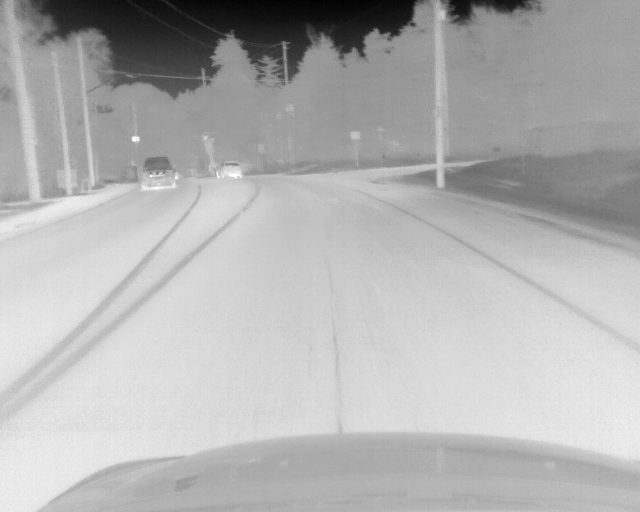car: (140, 157, 179, 191), (214, 161, 242, 180)
